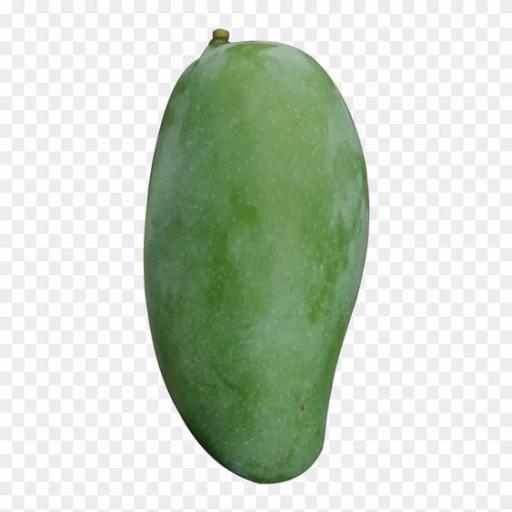mango: (144, 30, 368, 482)
